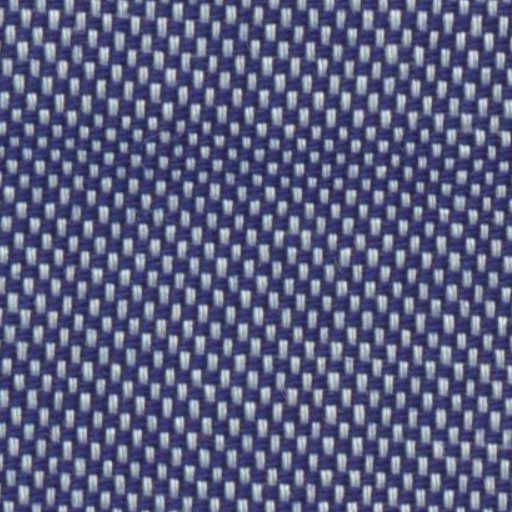TuoSha: (12, 102, 500, 202)
